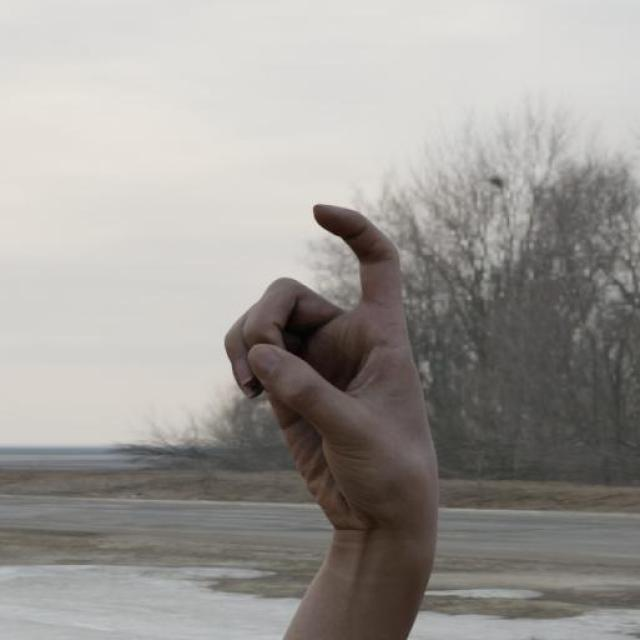X: (221, 200, 446, 536)
